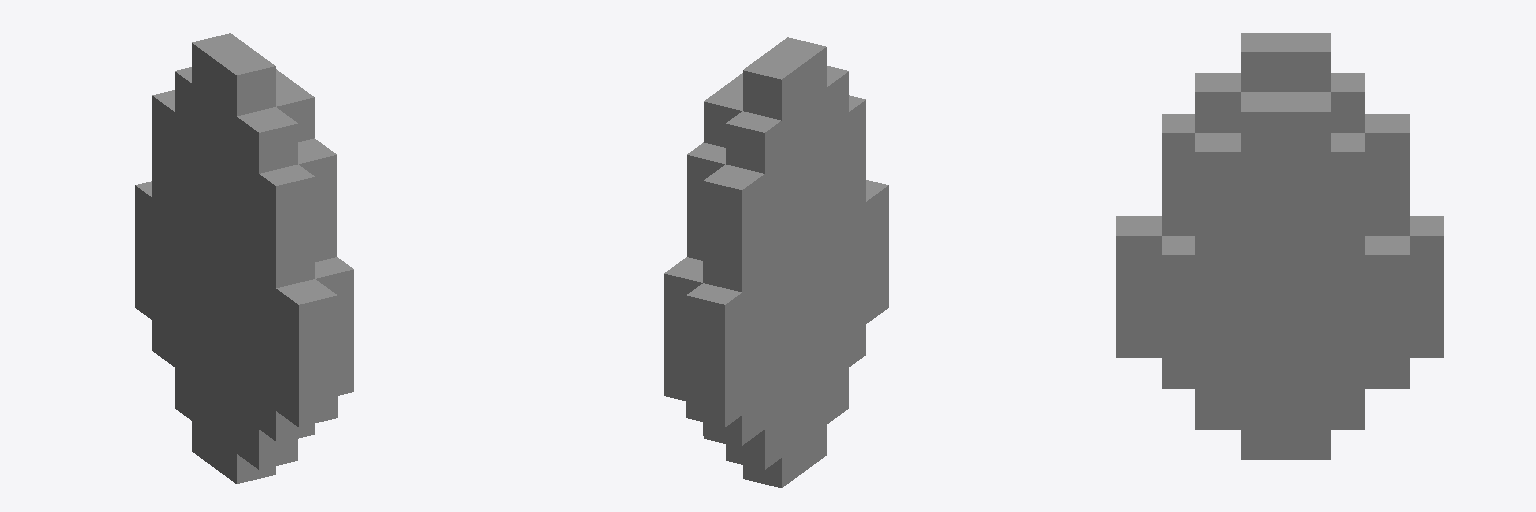
The model's file is GlowGem.obj.
3 renders of one model, left to right at view 1: azimuth 30°, elevation 25°; view 2: azimuth 150°, elevation 25°; view 3: azimuth 270°, elevation 25°, orthographic.
Parts seen in each view (by area): view 1: GlowGem; view 2: GlowGem; view 3: GlowGem.
Part boxes in pixels (x1,y1,x2,y2): GlowGem: (135, 33, 353, 483); GlowGem: (664, 37, 888, 487); GlowGem: (1116, 33, 1443, 459).
Size of the model in its own units: 0.0137 by 0.0687 by 0.0498.